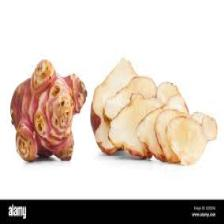Damaged potato: (90, 46, 220, 166), (9, 57, 88, 165)
